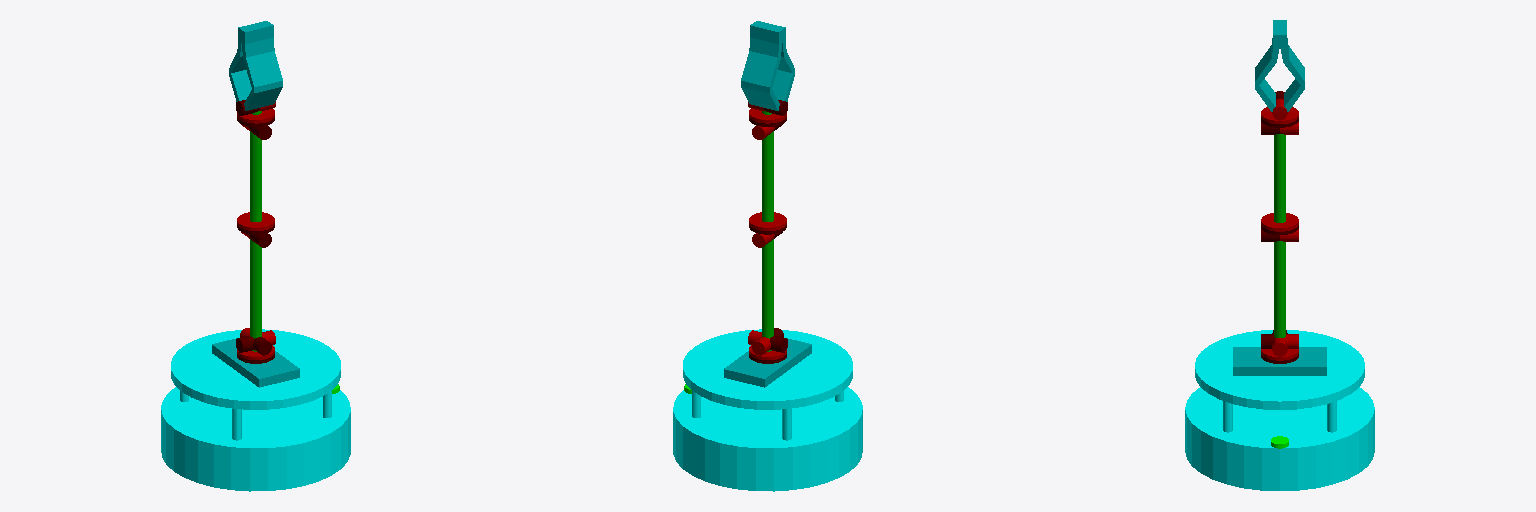
--- What the picture shows (computed from the rendered views, not written in the file) ---
3 views of the same robot in one strip: view 1: azimuth 30°, elevation 25°; view 2: azimuth 150°, elevation 25°; view 3: azimuth 270°, elevation 25° (orthographic).
Robot: base_arm — 20 links, 19 joints (9 continuous, 10 fixed); root link base_link; default pose: every joint at zero.
Visible links, largest first — view 1: main, GRIPPER1_lk, arm_base, ELBOW_Y_lk, BASE_P_lk, GRIPPER0_lk, WRIST_Y_lk; view 2: main, GRIPPER0_lk, arm_base, ELBOW_Y_lk, BASE_P_lk, GRIPPER1_lk, WRIST_Y_lk; view 3: main, arm_base, ELBOW_Y_lk, BASE_P_lk, GRIPPER0_lk, GRIPPER1_lk.
Boxes of the visible links, x1,y1,x2,y2 form: main: (161,329,350,491); GRIPPER1_lk: (242,23,282,110); arm_base: (212,338,299,387); ELBOW_Y_lk: (237,125,274,230); BASE_P_lk: (240,233,271,338); GRIPPER0_lk: (229,21,275,110); WRIST_Y_lk: (236,100,274,123); main: (673,329,862,491); GRIPPER0_lk: (741,23,781,110); arm_base: (724,338,811,387); ELBOW_Y_lk: (749,124,786,230); BASE_P_lk: (752,232,782,355); GRIPPER1_lk: (754,21,794,101); WRIST_Y_lk: (749,100,787,123); main: (1185,330,1374,490); arm_base: (1233,347,1326,375); ELBOW_Y_lk: (1261,122,1298,231); BASE_P_lk: (1261,229,1298,348); GRIPPER0_lk: (1272,20,1304,120); GRIPPER1_lk: (1255,20,1279,111).
Bounding box of the posed robot: 0.4 × 0.4 × 0.987 m (x, y, z).
2 mesh visuals loaded from 2 distinct referenced files (2 Collada DAE).

The robot description file, URDF, robot "base_arm":
<?xml version="1.0" ?>
<!-- =================================================================================== -->
<!-- |    This document was autogenerated by xacro from base_arm.urdf.xacro            | -->
<!-- |    EDITING THIS FILE BY HAND IS NOT RECOMMENDED                                 | -->
<!-- =================================================================================== -->
<robot name="base_arm" xmlns:body="http://playerstage.sourceforge.net/gazebo/xmlschema/#body" xmlns:controller="http://playerstage.sourceforge.net/gazebo/xmlschema/#controller" xmlns:gazebo="http://playerstage.sourceforge.net/gazebo/xmlschema/#gz" xmlns:geom="http://playerstage.sourceforge.net/gazebo/xmlschema/#geom" xmlns:interface="http://playerstage.sourceforge.net/gazebo/xmlschema/#interface" xmlns:joint="http://playerstage.sourceforge.net/gazebo/xmlschema/#joint" xmlns:model="http://playerstage.sourceforge.net/gazebo/xmlschema/#model" xmlns:physics="http://playerstage.sourceforge.net/gazebo/xmlschema/#physics" xmlns:renderable="http://playerstage.sourceforge.net/gazebo/xmlschema/#renderable" xmlns:rendering="http://playerstage.sourceforge.net/gazebo/xmlschema/#rendering" xmlns:sensor="http://playerstage.sourceforge.net/gazebo/xmlschema/#sensor" xmlns:xi="http://www.w3.org/2001/Xinclude">
  <link name="base_link"/>
  <link name="base_laser_link"/>
  <link name="main">
    <!-- main body -->
    <visual>
      <origin rpy="0 0 0" xyz="0 0 0"/>
      <geometry>
        <cylinder length="0.1" radius="0.2"/>
      </geometry>
      <material name="Cyan">
        <color rgba="0 1.0 1.0 1.0"/>
      </material>
    </visual>
    <!-- upper plate -->
    <visual>
      <origin rpy="0 0 0" xyz="0 0 0.14"/>
      <geometry>
        <cylinder length="0.02" radius="0.18"/>
      </geometry>
      <material name="Cyan">
        <color rgba="0 1.0 1.0 1.0"/>
      </material>
    </visual>
    <!-- poles -->
    <visual>
      <origin rpy="0 0 0" xyz="0.11 0.11 0.09"/>
      <geometry>
        <cylinder length="0.08" radius="0.01"/>
      </geometry>
      <material name="Cyan">
        <color rgba="0 1.0 1.0 1.0"/>
      </material>
    </visual>
    <visual>
      <origin rpy="0 0 0" xyz="-0.11 0.11 0.09"/>
      <geometry>
        <cylinder length="0.08" radius="0.01"/>
      </geometry>
      <material name="Cyan">
        <color rgba="0 1.0 1.0 1.0"/>
      </material>
    </visual>
    <visual>
      <origin rpy="0 0 0" xyz="0.11 -0.11 0.09"/>
      <geometry>
        <cylinder length="0.08" radius="0.01"/>
      </geometry>
      <material name="Cyan">
        <color rgba="0 1.0 1.0 1.0"/>
      </material>
    </visual>
    <visual>
      <origin rpy="0 0 0" xyz="-0.11 -0.11 0.09"/>
      <geometry>
        <cylinder length="0.08" radius="0.01"/>
      </geometry>
      <material name="Cyan">
        <color rgba="0 1.0 1.0 1.0"/>
      </material>
    </visual>
    <!-- marker -->
    <visual>
      <origin rpy="0 0 0" xyz="0.18 0 0.055"/>
      <geometry>
        <cylinder length="0.01" radius="0.02"/>
      </geometry>
      <material name="Green">
        <color rgba="0.0 1.0 0.0 1.0"/>
      </material>
    </visual>
    <!-- collisions -->
    <collision>
      <origin rpy="0 0 0" xyz="0 0 0"/>
      <geometry>
        <cylinder length="0.1" radius="0.2"/>
      </geometry>
    </collision>
    <inertial>
      <mass value="40.0"/>
      <origin rpy="0 0 0" xyz="0 0 0.0"/>
      <inertia ixx="0.4" ixy="0" ixz="0" iyy="0.4" iyz="0" izz="0.64"/>
    </inertial>
  </link>
  <joint name="fixed_base_link_to_main" type="fixed">
    <parent link="base_link"/>
    <child link="main"/>
    <origin rpy="0 0 0" xyz="0.0 0.0 0.05"/>
  </joint>
  <joint name="fixed_main_to_baselaser_link" type="fixed">
    <parent link="main"/>
    <child link="base_laser_link"/>
    <origin rpy="0 0 0" xyz="0.2 0.0 0.15"/>
  </joint>
  <!-- hokuyo -->
  <gazebo reference="base_laser_link">
    <sensor name="head_hokuyo_sensor" type="ray">
      <pose>0 0 0 0 0 0</pose>
      <visualize>false</visualize>
      <update_rate>40</update_rate>
      <ray>
        <scan>
          <horizontal>
            <samples>1000</samples>
            <resolution>1</resolution>
            <min_angle>-2.35619449</min_angle>
            <max_angle>2.35619449</max_angle>
          </horizontal>
        </scan>
        <range>
          <min>0.5</min>
          <max>30.0</max>
          <resolution>0.01</resolution>
        </range>
        <noise>
          <type>gaussian</type>
          <!--
                 Noise parameters based on published spec for Hokuyo laser
                 achieving "+-30mm" accuracy at range < 10m.  A mean of 0.0m and
                 stddev of 0.01m will put 99.7% of samples within 0.03m of the true
                 reading.
                 -->
          <mean>0.0</mean>
          <stddev>0.01</stddev>
        </noise>
      </ray>
      <plugin filename="libgazebo_ros_laser.so" name="gazebo_ros_head_hokuyo_controller">
        <topicName>scan</topicName>
        <frameName>base_laser_link</frameName>
      </plugin>
    </sensor>
  </gazebo>
  <!-- Base control -->
  <gazebo>
    <!--plugin filename="libgazebo_ros_planar_force_move.so" name="cmd_vel_controller"-->
    <plugin filename="libgazebo_ros_planar_move.so" name="cmd_vel_controller">
      <commandTopic>cmd_vel</commandTopic>
      <odometryTopic>odom</odometryTopic>
      <odometryFrame>odom</odometryFrame>
      <odometryRate>40.0</odometryRate>
      <robotBaseFrame>base_link</robotBaseFrame>
      <useForceFeedback>false</useForceFeedback>
      <appliedForceLink>base_link</appliedForceLink>
      <forceGainX>24000</forceGainX>
      <forceGainY>24000</forceGainY>
      <forceGainRot>6000</forceGainRot>
    </plugin>
  </gazebo>
  <link name="anchor_arm_base"/>
  <joint name="make_anchor" type="fixed">
    <parent link="base_link"/>
    <child link="anchor_arm_base"/>
    <origin rpy="0 0 0" xyz="0.0 0.0 0.2"/>
  </joint>
  <link name="arm_base">
    <visual>
      <origin rpy="0.000000000000e+00 -0.000000000000e+00 0.000000000000e+00" xyz="0.000000000000e+00 0.000000000000e+00 1.000000000000e-02"/>
      <geometry>
        <box size="1.000000000000e-01 2.000000000000e-01 2.000000000000e-02"/>
      </geometry>
      <material name="mat__0">
        <color rgba="0 0.7 0.7 1"/>
      </material>
    </visual>
    <visual>
      <origin rpy="-1.608122649677e-16 -0.000000000000e+00 0.000000000000e+00" xyz="0.000000000000e+00 -8.881784197001e-19 2.600000000000e-02"/>
      <geometry>
        <cylinder length="0.0080000000000000002" radius="0.040000000000000001"/>
      </geometry>
      <material name="mat__1">
        <color rgba="0.35 0 0 1"/>
      </material>
    </visual>
    <visual>
      <origin rpy="-1.608122649677e-16 -0.000000000000e+00 0.000000000000e+00" xyz="0.000000000000e+00 3.330669073875e-18 1.500000000000e-02"/>
      <geometry>
        <cylinder length="0.029999999999999999" radius="0.0132"/>
      </geometry>
      <material name="mat__2">
        <color rgba="0 0.7 0 1"/>
      </material>
    </visual>
    <collision>
      <origin rpy="0.000000000000e+00 -0.000000000000e+00 0.000000000000e+00" xyz="0.000000000000e+00 0.000000000000e+00 1.000000000000e-02"/>
      <geometry>
        <box size="1.000000000000e-01 2.000000000000e-01 2.000000000000e-02"/>
      </geometry>
      <material name="mat__3">
        <color rgba="0 0.7 0.7 1"/>
      </material>
    </collision>
    <collision>
      <origin rpy="-1.608122649677e-16 -0.000000000000e+00 0.000000000000e+00" xyz="0.000000000000e+00 -8.881784197001e-19 2.600000000000e-02"/>
      <geometry>
        <cylinder length="0.0080000000000000002" radius="0.040000000000000001"/>
      </geometry>
      <material name="mat__4">
        <color rgba="0.35 0 0 1"/>
      </material>
    </collision>
    <collision>
      <origin rpy="-1.608122649677e-16 -0.000000000000e+00 0.000000000000e+00" xyz="0.000000000000e+00 3.330669073875e-18 1.500000000000e-02"/>
      <geometry>
        <cylinder length="0.029999999999999999" radius="0.0132"/>
      </geometry>
      <material name="mat__5">
        <color rgba="0 0.7 0 1"/>
      </material>
    </collision>
    <inertial>
      <mass value="0.45663411908479401"/>
      <origin xyz="0.000000000000e+00 4.156409787513e-20 1.158881434989e-02"/>
      <inertia ixx="0.0013744652662453566" ixy="0" ixz="0" iyy="0.00037446526624535631" iyz="3.7374454579009944e-21" izz="0.0017002672368287403"/>
    </inertial>
  </link>
  <link name="BASE_Y_lk">
    <visual>
      <origin rpy="-1.570796326795e+00 -0.000000000000e+00 0.000000000000e+00" xyz="0.000000000000e+00 4.000000000000e-03 7.703719777549e-34"/>
      <geometry>
        <cylinder length="0.0080000000000000002" radius="0.040000000000000001"/>
      </geometry>
      <material name="mat__6">
        <color rgba="0.7 0 0 1"/>
      </material>
    </visual>
    <visual>
      <origin rpy="-3.141592653590e+00 -1.570796326795e+00 0.000000000000e+00" xyz="-2.000000000000e-02 2.500000000000e-02 9.992007221626e-18"/>
      <geometry>
        <cylinder length="0.040000000000000001" radius="0.016"/>
      </geometry>
      <material name="mat__7">
        <color rgba="0.35 0 0 1"/>
      </material>
    </visual>
    <visual>
      <origin rpy="-1.570796326795e+00 -0.000000000000e+00 0.000000000000e+00" xyz="0.000000000000e+00 1.250000000000e-02 -7.703719777549e-34"/>
      <geometry>
        <cylinder length="0.025000000000000001" radius="0.0132"/>
      </geometry>
      <material name="mat__8">
        <color rgba="0 0.7 0 1"/>
      </material>
    </visual>
    <collision>
      <origin rpy="-1.570796326795e+00 -0.000000000000e+00 0.000000000000e+00" xyz="0.000000000000e+00 4.000000000000e-03 7.703719777549e-34"/>
      <geometry>
        <cylinder length="0.0080000000000000002" radius="0.040000000000000001"/>
      </geometry>
      <material name="mat__9">
        <color rgba="0.7 0 0 1"/>
      </material>
    </collision>
    <collision>
      <origin rpy="-3.141592653590e+00 -1.570796326795e+00 0.000000000000e+00" xyz="-2.000000000000e-02 2.500000000000e-02 9.992007221626e-18"/>
      <geometry>
        <cylinder length="0.040000000000000001" radius="0.016"/>
      </geometry>
      <material name="mat__10">
        <color rgba="0.35 0 0 1"/>
      </material>
    </collision>
    <collision>
      <origin rpy="-1.570796326795e+00 -0.000000000000e+00 0.000000000000e+00" xyz="0.000000000000e+00 1.250000000000e-02 -7.703719777549e-34"/>
      <geometry>
        <cylinder length="0.025000000000000001" radius="0.0132"/>
      </geometry>
      <material name="mat__11">
        <color rgba="0 0.7 0 1"/>
      </material>
    </collision>
    <inertial>
      <mass value="0.086067072337745965"/>
      <origin xyz="-7.475543875018e-03 1.320083223828e-02 3.734784419238e-18"/>
      <inertia ixx="2.9615646440363949e-05" ixy="7.5915630097784371e-06" ixz="4.5211444592249744e-21" iyy="4.7768534147727311e-05" iyz="-3.7927476208569014e-21" izz="3.990430566799044e-05"/>
    </inertial>
  </link>
  <joint name="BASE_Y" type="continuous">
    <parent link="arm_base"/>
    <child link="BASE_Y_lk"/>
    <origin rpy="1.570796326795e+00 -0.000000000000e+00 0.000000000000e+00" xyz="0.000000000000e+00 0.000000000000e+00 3.000000000000e-02"/>
    <axis xyz="0.000000000000e+00 1.000000000000e+00 0.000000000000e+00"/>
    <limit effort="1.7976931348623157e+3" lower="-1.7976931348623157e+3" upper="1.7976931348623157e+3" velocity="1.7976931348623157e+3"/>
  </joint>
  <transmission name="BASE_Y_trans">
    <type>transmission_interface/SimpleTransmission</type>
    <joint name="BASE_Y">
      <hardwareInterface>hardware_interface/EffortJointInterface</hardwareInterface>
    </joint>
    <actuator name="BASE_Y_motor">
      <hardwareInterface>hardware_interface/EffortJointInterface</hardwareInterface>
    </actuator>
  </transmission>
  <link name="BASE_R_lk">
    <visual>
      <origin rpy="-1.570796326795e+00 -0.000000000000e+00 0.000000000000e+00" xyz="0.000000000000e+00 2.000000000000e-02 0.000000000000e+00"/>
      <geometry>
        <cylinder length="0.040000000000000001" radius="0.016"/>
      </geometry>
      <material name="mat__12">
        <color rgba="0.7 0 0 1"/>
      </material>
    </visual>
    <visual>
      <origin rpy="-1.570796326795e+00 -0.000000000000e+00 1.570796326795e+00" xyz="2.000000000000e-02 -4.440892098501e-18 0.000000000000e+00"/>
      <geometry>
        <cylinder length="0.040000000000000001" radius="0.016"/>
      </geometry>
      <material name="mat__13">
        <color rgba="0.35 0 0 1"/>
      </material>
    </visual>
    <collision>
      <origin rpy="-1.570796326795e+00 -0.000000000000e+00 0.000000000000e+00" xyz="0.000000000000e+00 2.000000000000e-02 0.000000000000e+00"/>
      <geometry>
        <cylinder length="0.040000000000000001" radius="0.016"/>
      </geometry>
      <material name="mat__14">
        <color rgba="0.7 0 0 1"/>
      </material>
    </collision>
    <collision>
      <origin rpy="-1.570796326795e+00 -0.000000000000e+00 1.570796326795e+00" xyz="2.000000000000e-02 -4.440892098501e-18 0.000000000000e+00"/>
      <geometry>
        <cylinder length="0.040000000000000001" radius="0.016"/>
      </geometry>
      <material name="mat__15">
        <color rgba="0.35 0 0 1"/>
      </material>
    </collision>
    <inertial>
      <mass value="0.064339817545518957"/>
      <origin xyz="1.000000000000e-02 1.000000000000e-02 0.000000000000e+00"/>
      <inertia ixx="1.6899925408622984e-05" ixy="6.433981754551899e-06" ixz="0" iyy="1.689992540862298e-05" iyz="0" izz="2.5564354171419536e-05"/>
    </inertial>
  </link>
  <joint name="BASE_R" type="continuous">
    <parent link="BASE_Y_lk"/>
    <child link="BASE_R_lk"/>
    <origin rpy="-1.570796326795e+00 -1.570796326795e+00 0.000000000000e+00" xyz="0.000000000000e+00 2.500000000000e-02 5.551115123126e-18"/>
    <axis xyz="0.000000000000e+00 1.000000000000e+00 0.000000000000e+00"/>
    <limit effort="1.7976931348623157e+3" lower="-1.7976931348623157e+3" upper="1.7976931348623157e+3" velocity="1.7976931348623157e+3"/>
  </joint>
  <transmission name="BASE_R_trans">
    <type>transmission_interface/SimpleTransmission</type>
    <joint name="BASE_R">
      <hardwareInterface>hardware_interface/EffortJointInterface</hardwareInterface>
    </joint>
    <actuator name="BASE_R_motor">
      <hardwareInterface>hardware_interface/EffortJointInterface</hardwareInterface>
    </actuator>
  </transmission>
  <link name="BASE_P_lk">
    <visual>
      <origin rpy="-1.570796326795e+00 -0.000000000000e+00 0.000000000000e+00" xyz="0.000000000000e+00 2.000000000000e-02 0.000000000000e+00"/>
      <geometry>
        <cylinder length="0.040000000000000001" radius="0.016"/>
      </geometry>
      <material name="mat__16">
        <color rgba="0.7 0 0 1"/>
      </material>
    </visual>
    <visual>
      <origin rpy="-1.570796326795e+00 -0.000000000000e+00 0.000000000000e+00" xyz="0.000000000000e+00 -2.000000000000e-02 2.500000000000e-01"/>
      <geometry>
        <cylinder length="0.040000000000000001" radius="0.016"/>
      </geometry>
      <material name="mat__17">
        <color rgba="0.35 0 0 1"/>
      </material>
    </visual>
    <visual>
      <origin rpy="-1.608122649677e-16 -0.000000000000e+00 0.000000000000e+00" xyz="0.000000000000e+00 2.775557561563e-17 1.250000000000e-01"/>
      <geometry>
        <cylinder length="0.25" radius="0.0132"/>
      </geometry>
      <material name="mat__18">
        <color rgba="0 0.7 0 1"/>
      </material>
    </visual>
    <collision>
      <origin rpy="-1.570796326795e+00 -0.000000000000e+00 0.000000000000e+00" xyz="0.000000000000e+00 2.000000000000e-02 0.000000000000e+00"/>
      <geometry>
        <cylinder length="0.040000000000000001" radius="0.016"/>
      </geometry>
      <material name="mat__19">
        <color rgba="0.7 0 0 1"/>
      </material>
    </collision>
    <collision>
      <origin rpy="-1.570796326795e+00 -0.000000000000e+00 0.000000000000e+00" xyz="0.000000000000e+00 -2.000000000000e-02 2.500000000000e-01"/>
      <geometry>
        <cylinder length="0.040000000000000001" radius="0.016"/>
      </geometry>
      <material name="mat__20">
        <color rgba="0.35 0 0 1"/>
      </material>
    </collision>
    <collision>
      <origin rpy="-1.608122649677e-16 -0.000000000000e+00 0.000000000000e+00" xyz="0.000000000000e+00 2.775557561563e-17 1.250000000000e-01"/>
      <geometry>
        <cylinder length="0.25" radius="0.0132"/>
      </geometry>
      <material name="mat__21">
        <color rgba="0 0.7 0 1"/>
      </material>
    </collision>
    <inertial>
      <mass value="0.20118759353589033"/>
      <origin xyz="0.000000000000e+00 1.887933906647e-17 1.250000000000e-01"/>
      <inertia ixx="0.001762451889234582" ixy="0" ixz="0" iyy="0.0017322550681998848" iyz="0.00016084954386379722" izz="5.0354495924804477e-05"/>
    </inertial>
  </link>
  <joint name="BASE_P" type="continuous">
    <parent link="BASE_R_lk"/>
    <child link="BASE_P_lk"/>
    <origin rpy="2.465190328816e-32 2.465190328816e-32 1.570796326795e+00" xyz="0.000000000000e+00 0.000000000000e+00 0.000000000000e+00"/>
    <axis xyz="0.000000000000e+00 1.000000000000e+00 0.000000000000e+00"/>
    <limit effort="1.7976931348623157e+3" lower="-1.7976931348623157e+3" upper="1.7976931348623157e+3" velocity="1.7976931348623157e+3"/>
  </joint>
  <transmission name="BASE_P_trans">
    <type>transmission_interface/SimpleTransmission</type>
    <joint name="BASE_P">
      <hardwareInterface>hardware_interface/EffortJointInterface</hardwareInterface>
    </joint>
    <actuator name="BASE_P_motor">
      <hardwareInterface>hardware_interface/EffortJointInterface</hardwareInterface>
    </actuator>
  </transmission>
  <link name="ELBOW_P_lk">
    <visual>
      <origin rpy="-1.570796326795e+00 -0.000000000000e+00 0.000000000000e+00" xyz="0.000000000000e+00 2.000000000000e-02 0.000000000000e+00"/>
      <geometry>
        <cylinder length="0.040000000000000001" radius="0.016"/>
      </geometry>
      <material name="mat__22">
        <color rgba="0.7 0 0 1"/>
      </material>
    </visual>
    <visual>
      <origin rpy="-1.608122649677e-16 -0.000000000000e+00 0.000000000000e+00" xyz="0.000000000000e+00 -8.881784197001e-19 2.100000000000e-02"/>
      <geometry>
        <cylinder length="0.0080000000000000002" radius="0.040000000000000001"/>
      </geometry>
      <material name="mat__23">
        <color rgba="0.35 0 0 1"/>
      </material>
    </visual>
    <visual>
      <origin rpy="-1.608122649677e-16 -0.000000000000e+00 0.000000000000e+00" xyz="0.000000000000e+00 2.775557561563e-18 1.250000000000e-02"/>
      <geometry>
        <cylinder length="0.025000000000000022" radius="0.0132"/>
      </geometry>
      <material name="mat__24">
        <color rgba="0 0.7 0 1"/>
      </material>
    </visual>
    <collision>
      <origin rpy="-1.570796326795e+00 -0.000000000000e+00 0.000000000000e+00" xyz="0.000000000000e+00 2.000000000000e-02 0.000000000000e+00"/>
      <geometry>
        <cylinder length="0.040000000000000001" radius="0.016"/>
      </geometry>
      <material name="mat__25">
        <color rgba="0.7 0 0 1"/>
      </material>
    </collision>
    <collision>
      <origin rpy="-1.608122649677e-16 -0.000000000000e+00 0.000000000000e+00" xyz="0.000000000000e+00 -8.881784197001e-19 2.100000000000e-02"/>
      <geometry>
        <cylinder length="0.0080000000000000002" radius="0.040000000000000001"/>
      </geometry>
      <material name="mat__26">
        <color rgba="0.35 0 0 1"/>
      </material>
    </collision>
    <collision>
      <origin rpy="-1.608122649677e-16 -0.000000000000e+00 0.000000000000e+00" xyz="0.000000000000e+00 2.775557561563e-18 1.250000000000e-02"/>
      <geometry>
        <cylinder length="0.025000000000000022" radius="0.0132"/>
      </geometry>
      <material name="mat__27">
        <color rgba="0 0.7 0 1"/>
      </material>
    </collision>
    <inertial>
      <mass value="0.086067072337745978"/>
      <origin xyz="0.000000000000e+00 7.475543875018e-03 1.179916776172e-02"/>
      <inertia ixx="3.9904305667990454e-05" ixy="0" ixz="0" iyy="2.9615646440363966e-05" iyz="7.5915630097784473e-06" izz="4.7768534147727311e-05"/>
    </inertial>
  </link>
  <joint name="ELBOW_P" type="continuous">
    <parent link="BASE_P_lk"/>
    <child link="ELBOW_P_lk"/>
    <origin rpy="-2.465190328816e-32 4.930380657631e-32 -6.077163357286e-64" xyz="-1.848892746612e-32 6.162975822039e-33 2.500000000000e-01"/>
    <axis xyz="0.000000000000e+00 1.000000000000e+00 0.000000000000e+00"/>
    <limit effort="1.7976931348623157e+3" lower="-1.7976931348623157e+3" upper="1.7976931348623157e+3" velocity="1.7976931348623157e+3"/>
  </joint>
  <transmission name="ELBOW_P_trans">
    <type>transmission_interface/SimpleTransmission</type>
    <joint name="ELBOW_P">
      <hardwareInterface>hardware_interface/EffortJointInterface</hardwareInterface>
    </joint>
    <actuator name="ELBOW_P_motor">
      <hardwareInterface>hardware_interface/EffortJointInterface</hardwareInterface>
    </actuator>
  </transmission>
  <link name="ELBOW_Y_lk">
    <visual>
      <origin rpy="-1.570796326795e+00 -0.000000000000e+00 0.000000000000e+00" xyz="0.000000000000e+00 4.000000000000e-03 0.000000000000e+00"/>
      <geometry>
        <cylinder length="0.0080000000000000002" radius="0.040000000000000001"/>
      </geometry>
      <material name="mat__28">
        <color rgba="0.7 0 0 1"/>
      </material>
    </visual>
    <visual>
      <origin rpy="-3.141592653590e+00 -0.000000000000e+00 0.000000000000e+00" xyz="0.000000000000e+00 2.250000000000e-01 2.000000000000e-02"/>
      <geometry>
        <cylinder length="0.040000000000000001" radius="0.016"/>
      </geometry>
      <material name="mat__29">
        <color rgba="0.35 0 0 1"/>
      </material>
    </visual>
    <visual>
      <origin rpy="-1.570796326795e+00 -0.000000000000e+00 0.000000000000e+00" xyz="0.000000000000e+00 1.125000000000e-01 -1.232595164408e-32"/>
      <geometry>
        <cylinder length="0.22500000000000003" radius="0.0132"/>
      </geometry>
      <material name="mat__30">
        <color rgba="0 0.7 0 1"/>
      </material>
    </visual>
    <collision>
      <origin rpy="-1.570796326795e+00 -0.000000000000e+00 0.000000000000e+00" xyz="0.000000000000e+00 4.000000000000e-03 0.000000000000e+00"/>
      <geometry>
        <cylinder length="0.0080000000000000002" radius="0.040000000000000001"/>
      </geometry>
      <material name="mat__31">
        <color rgba="0.7 0 0 1"/>
      </material>
    </collision>
    <collision>
      <origin rpy="-3.141592653590e+00 -0.000000000000e+00 0.000000000000e+00" xyz="0.000000000000e+00 2.250000000000e-01 2.000000000000e-02"/>
      <geometry>
        <cylinder length="0.040000000000000001" radius="0.016"/>
      </geometry>
      <material name="mat__32">
        <color rgba="0.35 0 0 1"/>
      </material>
    </collision>
    <collision>
      <origin rpy="-1.570796326795e+00 -0.000000000000e+00 0.000000000000e+00" xyz="0.000000000000e+00 1.125000000000e-01 -1.232595164408e-32"/>
      <geometry>
        <cylinder length="0.22500000000000003" radius="0.0132"/>
      </geometry>
      <material name="mat__33">
        <color rgba="0 0.7 0 1"/>
      </material>
    </collision>
    <inertial>
      <mass value="0.1955452931300431"/>
      <origin xyz="0.000000000000e+00 1.086956172482e-01 3.290276974488e-03"/>
      <inertia ixx="0.0014360679781591028" ixy="0" ixz="0" iyy="5.9999069830746762e-05" iyz="-7.4830027659918938e-05" izz="0.0014230865258438817"/>
    </inertial>
  </link>
  <joint name="ELBOW_Y" type="continuous">
    <parent link="ELBOW_P_lk"/>
    <child link="ELBOW_Y_lk"/>
    <origin rpy="1.570796326795e+00 4.930380657631e-32 9.115745035929e-64" xyz="1.047705889747e-32 1.642146637881e-48 2.500000000000e-02"/>
    <axis xyz="0.000000000000e+00 1.000000000000e+00 0.000000000000e+00"/>
    <limit effort="1.7976931348623157e+3" lower="-1.7976931348623157e+3" upper="1.7976931348623157e+3" velocity="1.7976931348623157e+3"/>
  </joint>
  <transmission name="ELBOW_Y_trans">
    <type>transmission_interface/SimpleTransmission</type>
    <joint name="ELBOW_Y">
      <hardwareInterface>hardware_interface/EffortJointInterface</hardwareInterface>
    </joint>
    <actuator name="ELBOW_Y_motor">
      <hardwareInterface>hardware_interface/EffortJointInterface</hardwareInterface>
    </actuator>
  </transmission>
  <link name="WRIST_P_lk">
    <visual>
      <origin rpy="-1.570796326795e+00 -0.000000000000e+00 0.000000000000e+00" xyz="0.000000000000e+00 2.000000000000e-02 0.000000000000e+00"/>
      <geometry>
        <cylinder length="0.040000000000000001" radius="0.016"/>
      </geometry>
      <material name="mat__34">
        <color rgba="0.7 0 0 1"/>
      </material>
    </visual>
    <visual>
      <origin rpy="-1.608122649677e-16 -0.000000000000e+00 0.000000000000e+00" xyz="0.000000000000e+00 -8.881784197001e-19 2.100000000000e-02"/>
      <geometry>
        <cylinder length="0.0080000000000000002" radius="0.040000000000000001"/>
      </geometry>
      <material name="mat__35">
        <color rgba="0.35 0 0 1"/>
      </material>
    </visual>
    <visual>
      <origin rpy="-1.608122649677e-16 -0.000000000000e+00 0.000000000000e+00" xyz="0.000000000000e+00 2.775557561563e-18 1.250000000000e-02"/>
      <geometry>
        <cylinder length="0.025000000000000022" radius="0.0132"/>
      </geometry>
      <material name="mat__36">
        <color rgba="0 0.7 0 1"/>
      </material>
    </visual>
    <collision>
      <origin rpy="-1.570796326795e+00 -0.000000000000e+00 0.000000000000e+00" xyz="0.000000000000e+00 2.000000000000e-02 0.000000000000e+00"/>
      <geometry>
        <cylinder length="0.040000000000000001" radius="0.016"/>
      </geometry>
      <material name="mat__37">
        <color rgba="0.7 0 0 1"/>
      </material>
    </collision>
    <collision>
      <origin rpy="-1.608122649677e-16 -0.000000000000e+00 0.000000000000e+00" xyz="0.000000000000e+00 -8.881784197001e-19 2.100000000000e-02"/>
      <geometry>
        <cylinder length="0.0080000000000000002" radius="0.040000000000000001"/>
      </geometry>
      <material name="mat__38">
        <color rgba="0.35 0 0 1"/>
      </material>
    </collision>
    <collision>
      <origin rpy="-1.608122649677e-16 -0.000000000000e+00 0.000000000000e+00" xyz="0.000000000000e+00 2.775557561563e-18 1.250000000000e-02"/>
      <geometry>
        <cylinder length="0.025000000000000022" radius="0.0132"/>
      </geometry>
      <material name="mat__39">
        <color rgba="0 0.7 0 1"/>
      </material>
    </collision>
    <inertial>
      <mass value="0.086067072337745978"/>
      <origin xyz="0.000000000000e+00 7.475543875018e-03 1.179916776172e-02"/>
      <inertia ixx="3.9904305667990461e-05" ixy="0" ixz="0" iyy="2.961564644036397e-05" iyz="7.5915630097784523e-06" izz="4.7768534147727311e-05"/>
    </inertial>
  </link>
  <joint name="WRIST_P" type="continuous">
    <parent link="ELBOW_Y_lk"/>
    <child link="WRIST_P_lk"/>
    <origin rpy="-1.570796326795e+00 -2.465190328816e-32 -4.930380657631e-32" xyz="-1.540743955510e-32 2.250000000000e-01 4.996003610813e-17"/>
    <axis xyz="0.000000000000e+00 1.000000000000e+00 0.000000000000e+00"/>
    <limit effort="1.7976931348623157e+3" lower="-1.7976931348623157e+3" upper="1.7976931348623157e+3" velocity="1.7976931348623157e+3"/>
  </joint>
  <transmission name="WRIST_P_trans">
    <type>transmission_interface/SimpleTransmission</type>
    <joint name="WRIST_P">
      <hardwareInterface>hardware_interface/EffortJointInterface</hardwareInterface>
    </joint>
    <actuator name="WRIST_P_motor">
      <hardwareInterface>hardware_interface/EffortJointInterface</hardwareInterface>
    </actuator>
  </transmission>
  <link name="WRIST_Y_lk">
    <visual>
      <origin rpy="-1.570796326795e+00 -0.000000000000e+00 0.000000000000e+00" xyz="0.000000000000e+00 4.000000000000e-03 0.000000000000e+00"/>
      <geometry>
        <cylinder length="0.0080000000000000002" radius="0.040000000000000001"/>
      </geometry>
      <material name="mat__40">
        <color rgba="0.7 0 0 1"/>
      </material>
    </visual>
    <visual>
      <origin rpy="-3.141592653590e+00 -1.570796326795e+00 0.000000000000e+00" xyz="-2.000000000000e-02 2.500000000000e-02 9.992007221626e-18"/>
      <geometry>
        <cylinder length="0.040000000000000001" radius="0.016"/>
      </geometry>
      <material name="mat__41">
        <color rgba="0.35 0 0 1"/>
      </material>
    </visual>
    <visual>
      <origin rpy="-3.141592653590e+00 -1.570796326795e+00 0.000000000000e+00" xyz="-2.000000000000e-02 2.500000000000e-02 9.992007221626e-18"/>
      <geometry>
        <cylinder length="0.040000000000000001" radius="0.016"/>
      </geometry>
      <material name="mat__42">
        <color rgba="0.35 0 0 1"/>
      </material>
    </visual>
    <visual>
      <origin rpy="-1.570796326795e+00 -0.000000000000e+00 0.000000000000e+00" xyz="0.000000000000e+00 1.250000000000e-02 0.000000000000e+00"/>
      <geometry>
        <cylinder length="0.025000000000000022" radius="0.0132"/>
      </geometry>
      <material name="mat__43">
        <color rgba="0 0.7 0 1"/>
      </material>
    </visual>
    <visual>
      <origin rpy="-1.570796326795e+00 -0.000000000000e+00 0.000000000000e+00" xyz="0.000000000000e+00 1.250000000000e-02 0.000000000000e+00"/>
      <geometry>
        <cylinder length="0.025000000000000022" radius="0.0132"/>
      </geometry>
      <material name="mat__44">
        <color rgba="0 0.7 0 1"/>
      </material>
    </visual>
    <collision>
      <origin rpy="-1.570796326795e+00 -0.000000000000e+00 0.000000000000e+00" xyz="0.000000000000e+00 4.000000000000e-03 0.000000000000e+00"/>
      <geometry>
        <cylinder length="0.0080000000000000002" radius="0.040000000000000001"/>
      </geometry>
      <material name="mat__45">
        <color rgba="0.7 0 0 1"/>
      </material>
    </collision>
    <collision>
      <origin rpy="-3.141592653590e+00 -1.570796326795e+00 0.000000000000e+00" xyz="-2.000000000000e-02 2.500000000000e-02 9.992007221626e-18"/>
      <geometry>
        <cylinder length="0.040000000000000001" radius="0.016"/>
      </geometry>
      <material name="mat__46">
        <color rgba="0.35 0 0 1"/>
      </material>
    </collision>
    <collision>
      <origin rpy="-3.141592653590e+00 -1.570796326795e+00 0.000000000000e+00" xyz="-2.000000000000e-02 2.500000000000e-02 9.992007221626e-18"/>
      <geometry>
        <cylinder length="0.040000000000000001" radius="0.016"/>
      </geometry>
      <material name="mat__47">
        <color rgba="0.35 0 0 1"/>
      </material>
    </collision>
    <collision>
      <origin rpy="-1.570796326795e+00 -0.000000000000e+00 0.000000000000e+00" xyz="0.000000000000e+00 1.250000000000e-02 0.000000000000e+00"/>
      <geometry>
        <cylinder length="0.025000000000000022" radius="0.0132"/>
      </geometry>
      <material name="mat__48">
        <color rgba="0 0.7 0 1"/>
      </material>
    </collision>
    <collision>
      <origin rpy="-1.570796326795e+00 -0.000000000000e+00 0.000000000000e+00" xyz="0.000000000000e+00 1.250000000000e-02 0.000000000000e+00"/>
      <geometry>
        <cylinder length="0.025000000000000022" radius="0.0132"/>
      </geometry>
      <material name="mat__49">
        <color rgba="0 0.7 0 1"/>
      </material>
    </collision>
    <inertial>
      <mass value="0.13192175870954262"/>
      <origin xyz="-9.754238902648e-03 1.600542960564e-02 4.873221277836e-18"/>
      <inertia ixx="3.8490014544011007e-05" ixy="1.1574180361470074e-05" ixz="7.577352523064054e-21" iyy="6.0434943076303381e-05" iyz="-5.782464687810782e-21" izz="5.6135116552872243e-05"/>
    </inertial>
  </link>
  <joint name="WRIST_Y" type="continuous">
    <parent link="WRIST_P_lk"/>
    <child link="WRIST_Y_lk"/>
    <origin rpy="1.570796326795e+00 4.930380657631e-32 2.465190328816e-32" xyz="9.244463733059e-33 2.736911063134e-49 2.500000000000e-02"/>
    <axis xyz="0.000000000000e+00 1.000000000000e+00 0.000000000000e+00"/>
    <limit effort="1.7976931348623157e+3" lower="-1.7976931348623157e+3" upper="1.7976931348623157e+3" velocity="1.7976931348623157e+3"/>
  </joint>
  <transmission name="WRIST_Y_trans">
    <type>transmission_interface/SimpleTransmission</type>
    <joint name="WRIST_Y">
      <hardwareInterface>hardware_interface/EffortJointInterface</hardwareInterface>
    </joint>
    <actuator name="WRIST_Y_motor">
      <hardwareInterface>hardware_interface/EffortJointInterface</hardwareInterface>
    </actuator>
  </transmission>
  <link name="GRIPPER0_lk">
    <visual>
      <origin rpy="-1.570796326795e+00 -0.000000000000e+00 0.000000000000e+00" xyz="0.000000000000e+00 2.000000000000e-02 0.000000000000e+00"/>
      <geometry>
        <cylinder length="0.040000000000000001" radius="0.016"/>
      </geometry>
      <material name="mat__50">
        <color rgba="0.7 0 0 1"/>
      </material>
    </visual>
    <visual>
      <geometry>
        <mesh filename="package://irsl_mobile_arm/model/BodyBuilder_GRIPPER0_lk.dae"/>
      </geometry>
    </visual>
    <collision>
      <origin rpy="-1.570796326795e+00 -0.000000000000e+00 0.000000000000e+00" xyz="0.000000000000e+00 2.000000000000e-02 0.000000000000e+00"/>
      <geometry>
        <cylinder length="0.040000000000000001" radius="0.016"/>
      </geometry>
      <material name="mat__51">
        <color rgba="0.7 0 0 1"/>
      </material>
    </collision>
    <collision>
      <geometry>
        <mesh filename="package://irsl_mobile_arm/model/BodyBuilder_GRIPPER0_lk.stl"/>
      </geometry>
    </collision>
    <inertial>
      <mass value="0.21978987015193907"/>
      <origin xyz="-1.964929816291e-02 2.927333239006e-03 7.575149021598e-02"/>
      <inertia ixx="0.00083441482670501815" ixy="-1.2642322577907088e-05" ixz="-1.6655085154564249e-05" iyy="0.00079797034509641396" iyz="4.8738369652698547e-05" izz="0.0001473261756837552"/>
    </inertial>
  </link>
  <joint name="GRIPPER0" type="continuous">
    <parent link="WRIST_Y_lk"/>
    <child link="GRIPPER0_lk"/>
    <origin rpy="-1.570796326795e+00 -1.570796326795e+00 0.000000000000e+00" xyz="-6.162975822039e-34 2.500000000000e-02 5.551115123126e-18"/>
    <axis xyz="0.000000000000e+00 1.000000000000e+00 0.000000000000e+00"/>
    <limit effort="1.7976931348623157e+3" lower="-1.7976931348623157e+3" upper="1.7976931348623157e+3" velocity="1.7976931348623157e+3"/>
  </joint>
  <transmission name="GRIPPER0_trans">
    <type>transmission_interface/SimpleTransmission</type>
    <joint name="GRIPPER0">
      <hardwareInterface>hardware_interface/EffortJointInterface</hardwareInterface>
    </joint>
    <actuator name="GRIPPER0_motor">
      <hardwareInterface>hardware_interface/EffortJointInterface</hardwareInterface>
    </actuator>
  </transmission>
  <link name="GRIPPER1_lk">
    <visual>
      <origin rpy="-1.570796326795e+00 -0.000000000000e+00 0.000000000000e+00" xyz="0.000000000000e+00 2.000000000000e-02 0.000000000000e+00"/>
      <geometry>
        <cylinder length="0.040000000000000001" radius="0.016"/>
      </geometry>
      <material name="mat__52">
        <color rgba="0.7 0 0 1"/>
      </material>
    </visual>
    <visual>
      <geometry>
        <mesh filename="package://irsl_mobile_arm/model/BodyBuilder_GRIPPER1_lk.dae"/>
      </geometry>
    </visual>
    <collision>
      <origin rpy="-1.570796326795e+00 -0.000000000000e+00 0.000000000000e+00" xyz="0.000000000000e+00 2.000000000000e-02 0.000000000000e+00"/>
      <geometry>
        <cylinder length="0.040000000000000001" radius="0.016"/>
      </geometry>
      <material name="mat__53">
        <color rgba="0.7 0 0 1"/>
      </material>
    </collision>
    <collision>
      <geometry>
        <mesh filename="package://irsl_mobile_arm/model/BodyBuilder_GRIPPER1_lk.stl"/>
      </geometry>
    </collision>
    <inertial>
      <mass value="0.21978987015193907"/>
      <origin xyz="1.964929816291e-02 2.927333239006e-03 7.575149021598e-02"/>
      <inertia ixx="0.00083441482670501815" ixy="1.2642322577907061e-05" ixz="1.6655085154564277e-05" iyy="0.00079797034509641396" iyz="4.8738369652698506e-05" izz="0.00014732617568375517"/>
    </inertial>
  </link>
  <joint name="GRIPPER1" type="continuous">
    <parent link="WRIST_Y_lk"/>
    <child link="GRIPPER1_lk"/>
    <origin rpy="-1.570796326795e+00 -1.570796326795e+00 0.000000000000e+00" xyz="-6.162975822039e-34 2.500000000000e-02 5.551115123126e-18"/>
    <axis xyz="0.000000000000e+00 1.000000000000e+00 0.000000000000e+00"/>
    <limit effort="1.7976931348623157e+3" lower="-1.7976931348623157e+3" upper="1.7976931348623157e+3" velocity="1.7976931348623157e+3"/>
  </joint>
  <transmission name="GRIPPER1_trans">
    <type>transmission_interface/SimpleTransmission</type>
    <joint name="GRIPPER1">
      <hardwareInterface>hardware_interface/EffortJointInterface</hardwareInterface>
    </joint>
    <actuator name="GRIPPER1_motor">
      <hardwareInterface>hardware_interface/EffortJointInterface</hardwareInterface>
    </actuator>
  </transmission>
  <joint name="connect_arm" type="fixed">
    <parent link="anchor_arm_base"/>
    <child link="arm_base"/>
  </joint>
  <gazebo>
    <plugin filename="libgazebo_ros_control.so" name="gazebo_ros_control">
      <robotNamespace>/</robotNamespace>
    </plugin>
  </gazebo>
  <link name="base_camera_link"/>
  <joint name="fixed_main_to_base_camera_link" type="fixed">
    <parent link="main"/>
    <child link="base_camera_link"/>
    <origin rpy="0 0 0" xyz="0.2 0.0 0.15"/>
  </joint>
  <link name="arm_camera_link"/>
  <joint name="fixed_main_to_arm_camera_link" type="fixed">
    <parent link="ELBOW_Y_lk"/>
    <child link="arm_camera_link"/>
    <origin rpy="-1.5707963267948966 0 1.5707963267948966" xyz="-0.1 0.12 0"/>
  </joint>
  <link name="hand_camera_link"/>
  <joint name="fixed_main_to_hand_camera_link" type="fixed">
    <parent link="WRIST_Y_lk"/>
    <child link="hand_camera_link"/>
    <origin rpy="-1.5707963267948966 0 1.5707963267948966" xyz="-0.07 0.025 0"/>
  </joint>
  <!-- create camera frame-->
  <link name="base_camera_frame"/>
  <joint name="base_camera_frame_fixed_joint" type="fixed">
    <parent link="base_camera_link"/>
    <child link="base_camera_frame"/>
    <origin rpy="-1.5707963267948966 0 -1.5707963267948966" xyz="0 0 0"/>
  </joint>
  <!-- camera -->
  <gazebo reference="base_camera_link">
    <sensor name="base_camera_link_camera" type="camera">
      <pose>0 0 0 0 0 0</pose>
      <always_on>true</always_on>
      <update_rate>30.0</update_rate>
      <visualize>True</visualize>
      <camera name="base_camera_link_camera">
        <horizontal_fov>1.578</horizontal_fov>
        <image>
          <width>800</width>
          <height>600</height>
          <format>B8G8R8</format>
        </image>
        <clip>
          <near>0.02</near>
          <far>300</far>
        </clip>
        <noise>
          <type>gaussian</type>
          <!-- Noise is sampled independently per pixel on each frame.
                 That pixel's noise value is added to each of its color
                 channels, which at that point lie in the range [0,1]. -->
          <mean>0.0</mean>
          <stddev>0.007</stddev>
        </noise>
      </camera>
      <plugin filename="libgazebo_ros_camera.so" name="camera_controller">
        <alwaysOn>true</alwaysOn>
        <updateRate>0.0</updateRate>
        <!-- ? -->
        <cameraName>base_camera</cameraName>
        <imageTopicName>image_raw</imageTopicName>
        <cameraInfoTopicName>camera_info</cameraInfoTopicName>
        <frameName>base_camera_frame</frameName>
        <hackBaseline>0.07</hackBaseline>
        <distortionK1>0.0</distortionK1>
        <distortionK2>0.0</distortionK2>
        <distortionK3>0.0</distortionK3>
        <distortionT1>0.0</distortionT1>
        <distortionT2>0.0</distortionT2>
      </plugin>
    </sensor>
  </gazebo>
  <!-- create camera frame-->
  <link name="arm_camera_frame"/>
  <joint name="arm_camera_frame_fixed_joint" type="fixed">
    <parent link="arm_camera_link"/>
    <child link="arm_camera_frame"/>
    <origin rpy="-1.5707963267948966 0 -1.5707963267948966" xyz="0 0 0"/>
  </joint>
  <!-- camera -->
  <gazebo reference="arm_camera_link">
    <sensor name="arm_camera_link_camera" type="camera">
      <pose>0 0 0 0 0 0</pose>
      <always_on>true</always_on>
      <update_rate>30.0</update_rate>
      <visualize>True</visualize>
      <camera name="arm_camera_link_camera">
        <horizontal_fov>1.578</horizontal_fov>
        <image>
          <width>800</width>
          <height>600</height>
          <format>B8G8R8</format>
        </image>
        <clip>
          <near>0.02</near>
          <far>300</far>
        </clip>
        <noise>
          <type>gaussian</type>
          <!-- Noise is sampled independently per pixel on each frame.
                 That pixel's noise value is added to each of its color
                 channels, which at that point lie in the range [0,1]. -->
          <mean>0.0</mean>
          <stddev>0.007</stddev>
        </noise>
      </camera>
      <plugin filename="libgazebo_ros_camera.so" name="camera_controller">
        <alwaysOn>true</alwaysOn>
        <updateRate>0.0</updateRate>
        <!-- ? -->
        <cameraName>arm_camera</cameraName>
        <imageTopicName>image_raw</imageTopicName>
        <cameraInfoTopicName>camera_info</cameraInfoTopicName>
        <frameName>arm_camera_frame</frameName>
        <hackBaseline>0.07</hackBaseline>
        <distortionK1>0.0</distortionK1>
        <distortionK2>0.0</distortionK2>
        <distortionK3>0.0</distortionK3>
        <distortionT1>0.0</distortionT1>
        <distortionT2>0.0</distortionT2>
      </plugin>
    </sensor>
  </gazebo>
  <!-- create camera frame-->
  <link name="hand_camera_frame"/>
  <joint name="hand_camera_frame_fixed_joint" type="fixed">
    <parent link="hand_camera_link"/>
    <child link="hand_camera_frame"/>
    <origin rpy="-1.5707963267948966 0 -1.5707963267948966" xyz="0 0 0"/>
  </joint>
  <!-- camera -->
  <gazebo reference="hand_camera_link">
    <sensor name="hand_camera_link_camera" type="camera">
      <pose>0 0 0 0 0 0</pose>
      <always_on>true</always_on>
      <update_rate>30.0</update_rate>
      <visualize>True</visualize>
      <camera name="hand_camera_link_camera">
        <horizontal_fov>1.578</horizontal_fov>
        <image>
          <width>800</width>
          <height>600</height>
          <format>B8G8R8</format>
        </image>
        <clip>
          <near>0.02</near>
          <far>300</far>
        </clip>
        <noise>
          <type>gaussian</type>
          <!-- Noise is sampled independently per pixel on each frame.
                 That pixel's noise value is added to each of its color
                 channels, which at that point lie in the range [0,1]. -->
          <mean>0.0</mean>
          <stddev>0.007</stddev>
        </noise>
      </camera>
      <plugin filename="libgazebo_ros_camera.so" name="camera_controller">
        <alwaysOn>true</alwaysOn>
        <updateRate>0.0</updateRate>
        <!-- ? -->
        <cameraName>hand_camera</cameraName>
        <imageTopicName>image_raw</imageTopicName>
        <cameraInfoTopicName>camera_info</cameraInfoTopicName>
        <frameName>hand_camera_frame</frameName>
        <hackBaseline>0.07</hackBaseline>
        <distortionK1>0.0</distortionK1>
        <distortionK2>0.0</distortionK2>
        <distortionK3>0.0</distortionK3>
        <distortionT1>0.0</distortionT1>
        <distortionT2>0.0</distortionT2>
      </plugin>
    </sensor>
  </gazebo>
</robot>
